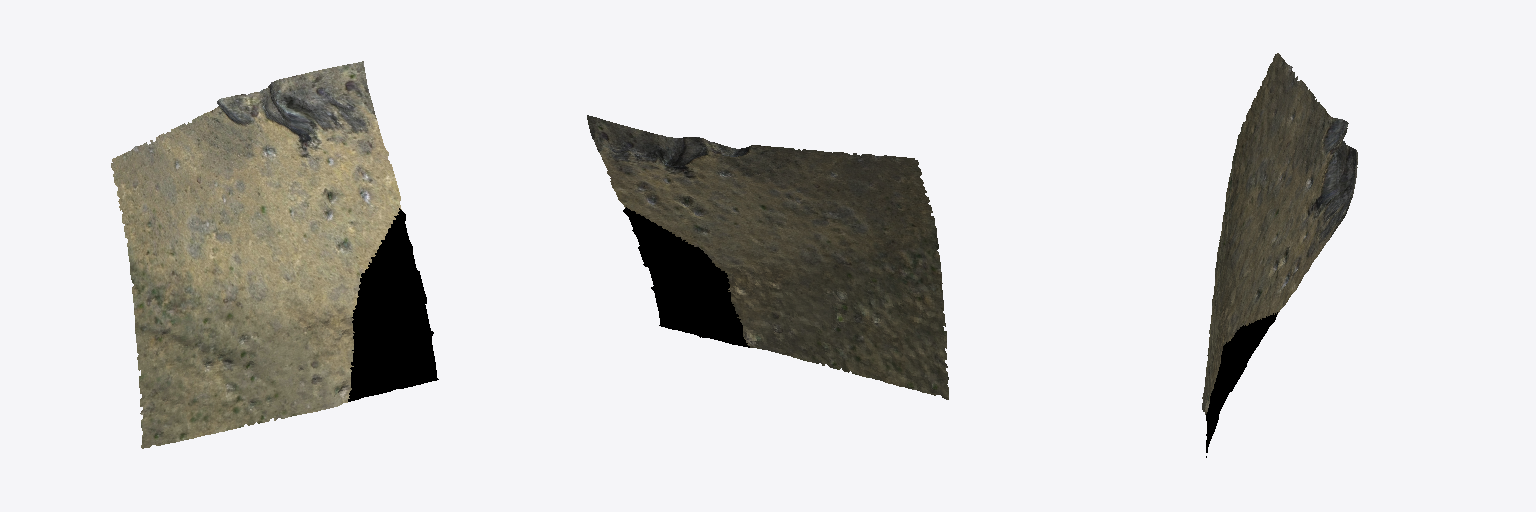
3 views of the same model, side by side, from view 1: azimuth 30°, elevation 25°; view 2: azimuth 150°, elevation 25°; view 3: azimuth 270°, elevation 25° (orthographic).
Size of the model in its own units: 1.97 by 1.7 by 0.9016.
1 materials, 1 textured.